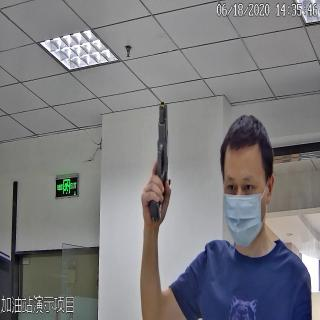gun: (147, 100, 171, 224)
